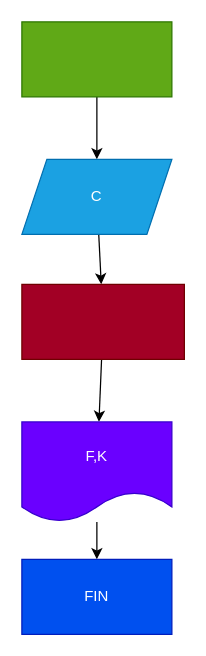
The diagram is 206 pixels wide and 656 high, and some of its shapes have lost their labels. Here are the shapes that lost their labels. From the top down, the centre of each, then its label:
At point 96,59: "INICIO".
At point 102,321: "F = ºC x 1.8 + 32 K = ºC + 273.15".
